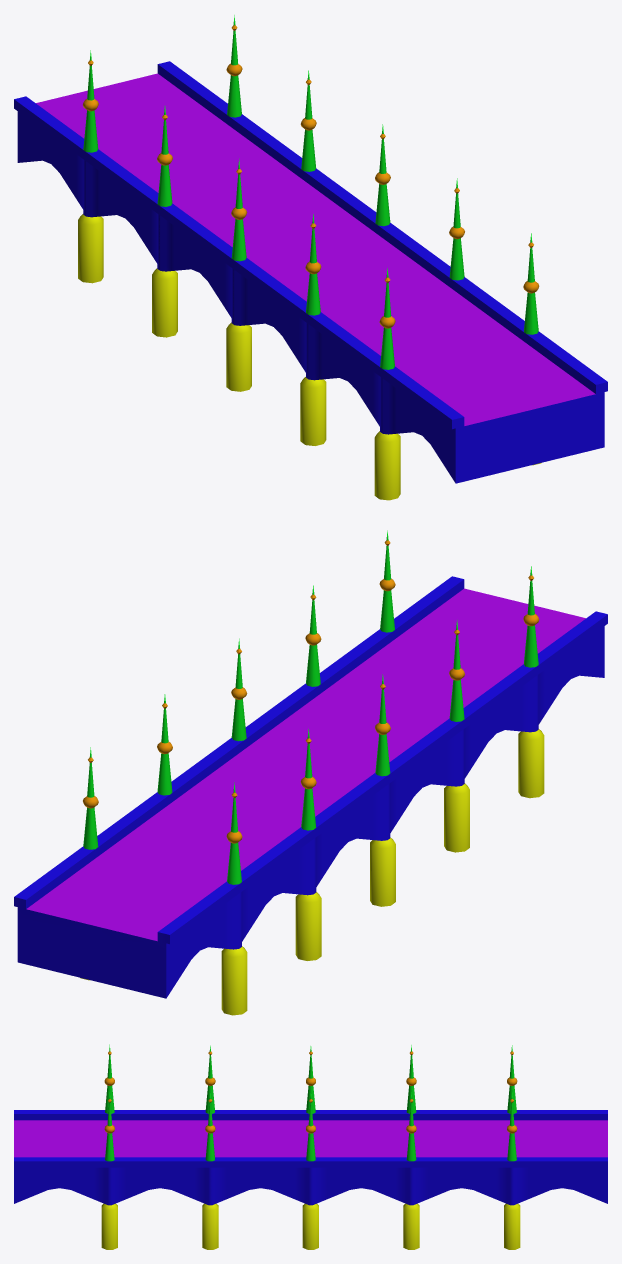
The model's file is BG_Bridge.fbx.
3 views of the same model, one above another, from view 1: azimuth 30°, elevation 25°; view 2: azimuth 150°, elevation 25°; view 3: azimuth 270°, elevation 25° (orthographic). The views are drawn at different scales.
Visible parts, largest first — view 1: 円柱.001; view 2: 円柱.001; view 3: 円柱.001.
Part boxes in pixels (x1=…): 円柱.001: x1=14, y1=15, x2=607, y2=500; 円柱.001: x1=14, y1=530, x2=607, y2=1015; 円柱.001: x1=14, y1=1044, x2=607, y2=1249.
Bounding box in the file's own units: 1446 × 1916 × 6668.
